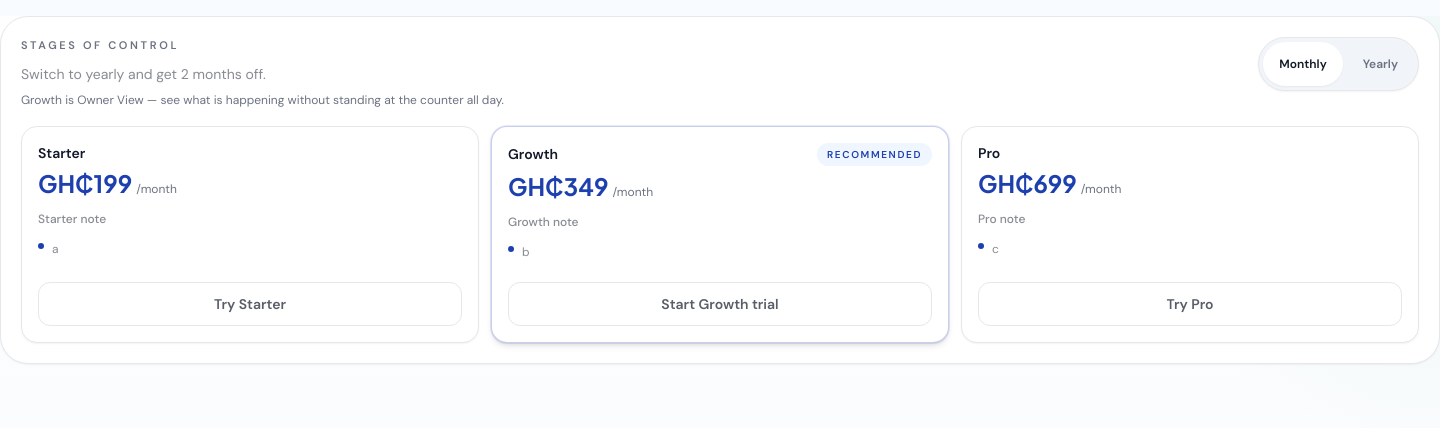
Test case: WelcomePricingPreview monthly/yearly toggle › shows savings badges only while yearly is selected, for every tier
This screenshot has width=1440, height=428.
Expected: the text "Save GH₵" is not shown
What coordinates should you click on to do the following:
click the button "Yearly"
I would click on:
 (1380, 64)
Its box is [1347,42,1414,86].
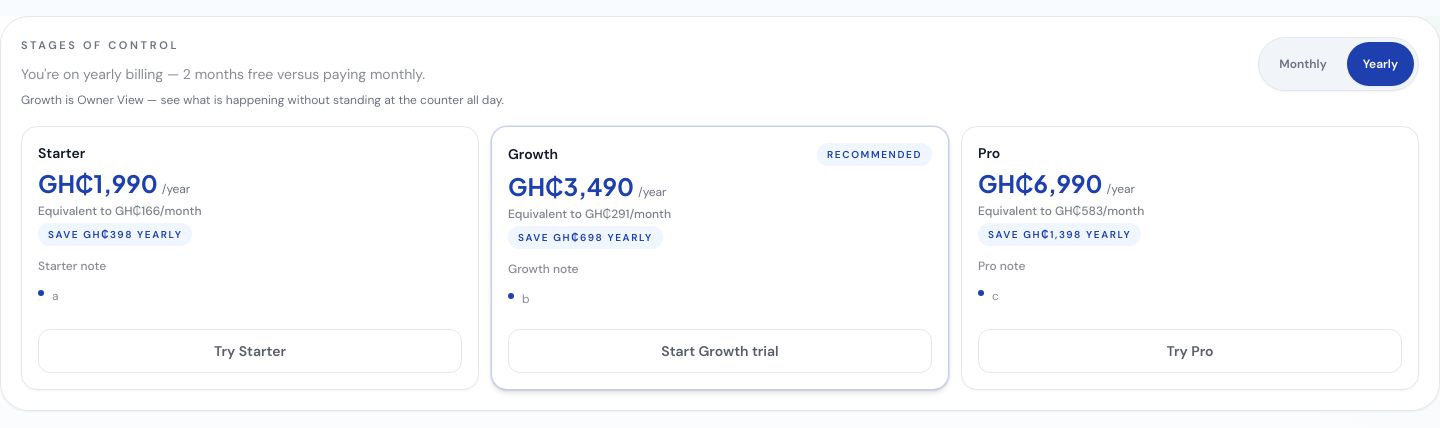
Result: the text "Save GH₵398 yearly" is shown 3 times at [38,222,192,246]; [508,226,663,248]; [978,222,1141,246]
